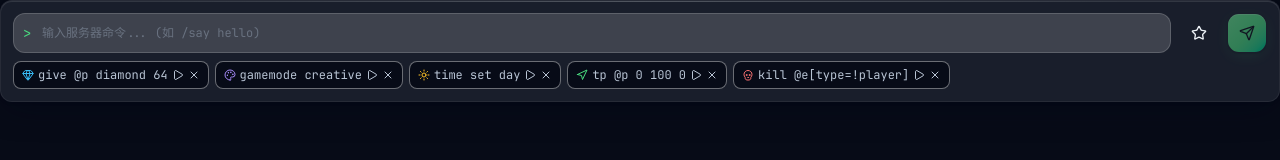
it: CommandInput › 历史状态回显（sent/failed 指示器） › 成功命令入列 + ↑ 导航显示「已送达」
Expected: the text "已送达" is not shown
Type "say ok" into the field named "服务器命令输入".
click(592, 33); type("say ok")  # box [13, 13, 1171, 53]
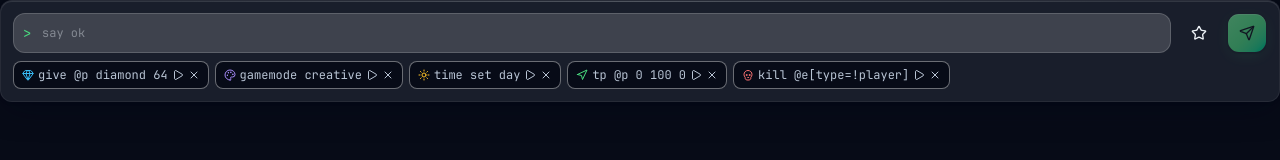
Press Enter in the field named "服务器命令输入", box [13, 13, 1171, 53]
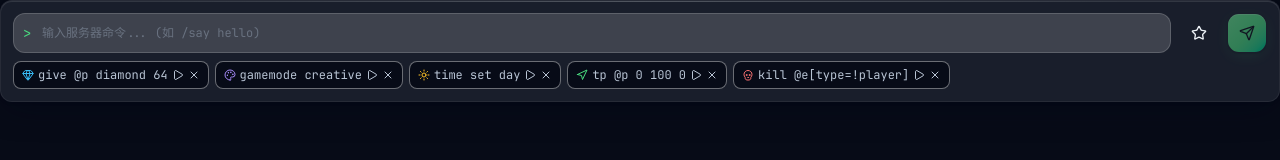
Result: the field named "服务器命令输入" is empty
Note: ↑ 进入导航 → 指示器出现
Press ArrowUp in the field named "服务器命令输入", box [13, 13, 1171, 53]
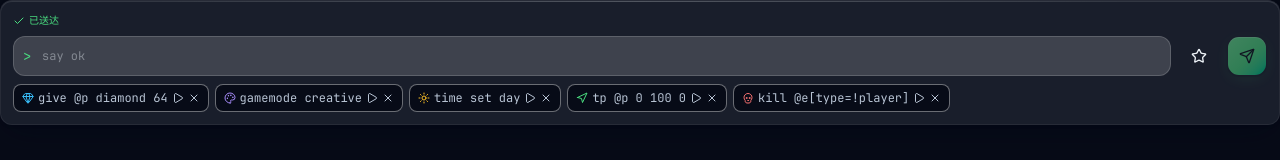
Result: the text "已送达" is shown at [13, 14, 59, 26]
Note: 编辑退出导航 → 指示器消失
Replace the text in the field named "服务器命令输入" with "fresh" at (592, 56), box [13, 36, 1171, 76]
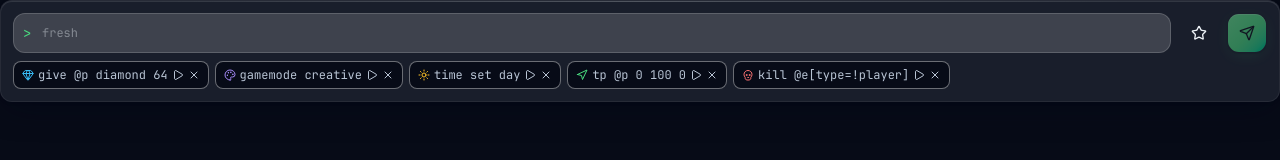
Result: the text "已送达" is gone
